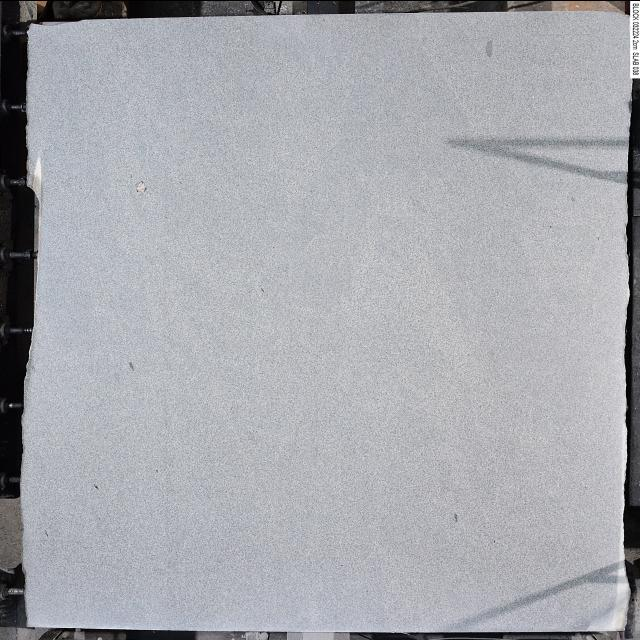chapa: (21, 11, 630, 631)
